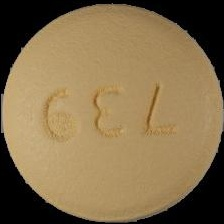33261-817: (0, 0, 224, 224)
